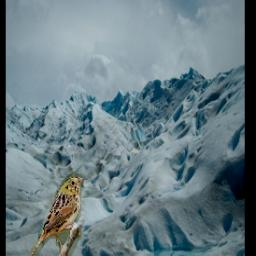Sparrow: (24, 174, 84, 256)
